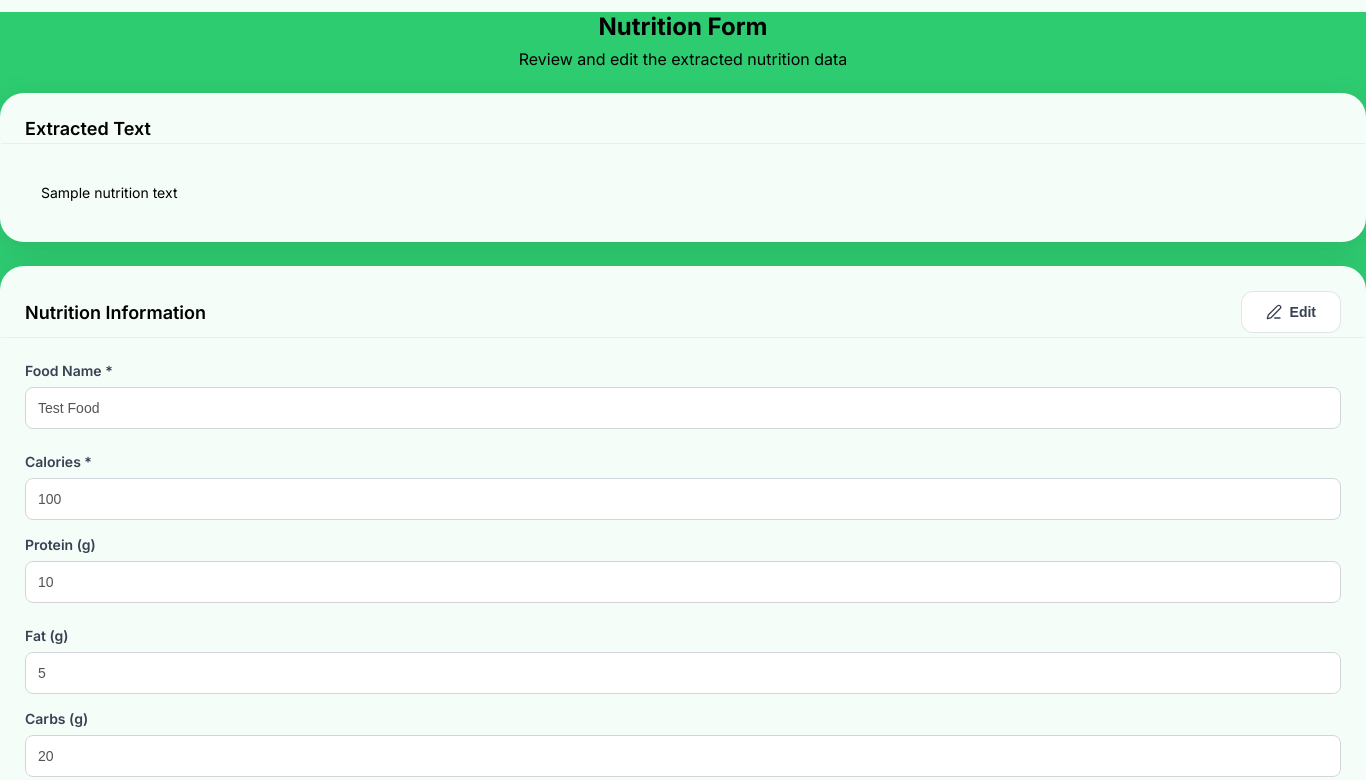
Test case: NutritionForm Component › allows editing form fields
# Enable editing
Click the button "Edit" at (1291, 312), box [1240, 291, 1341, 333]
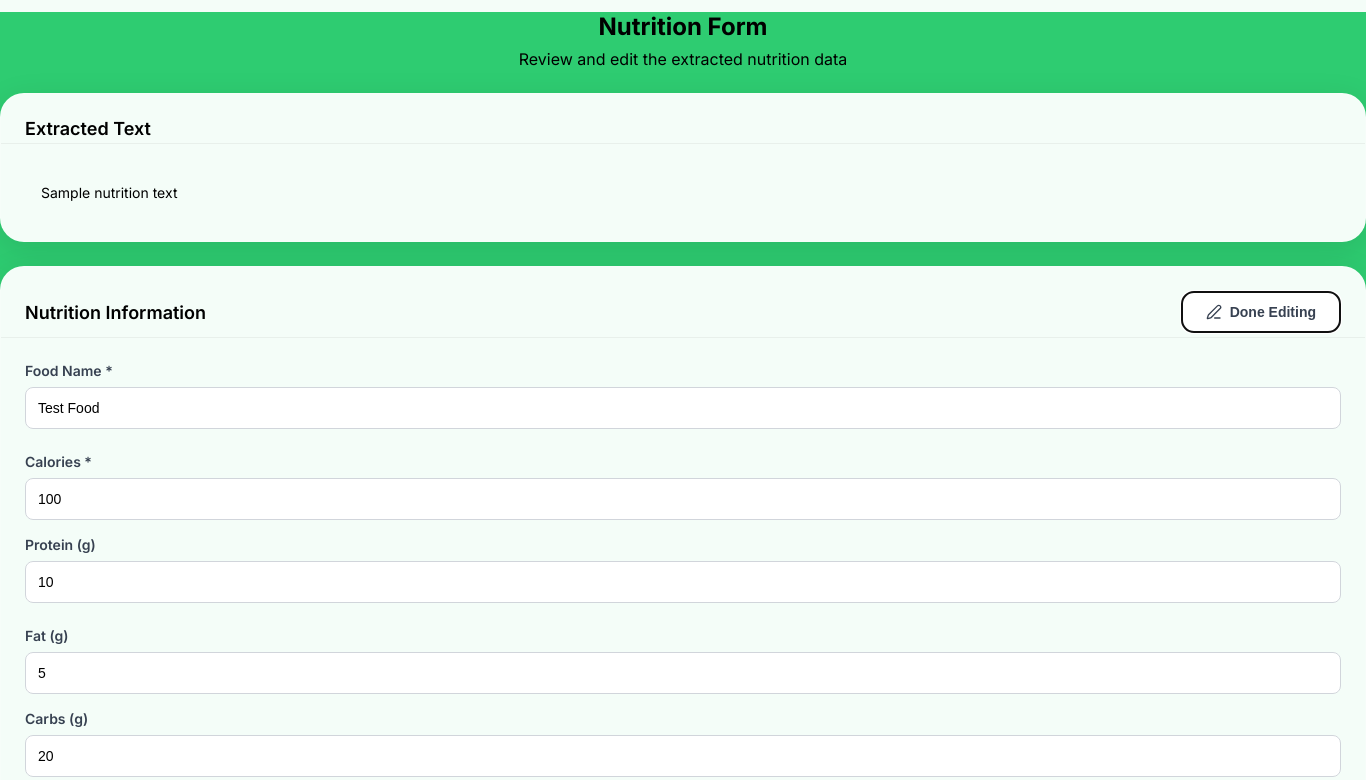
# Get the food name input and modify it
Type " Updated" into the field showing "Test Food" at (683, 408), box [25, 387, 1341, 429]
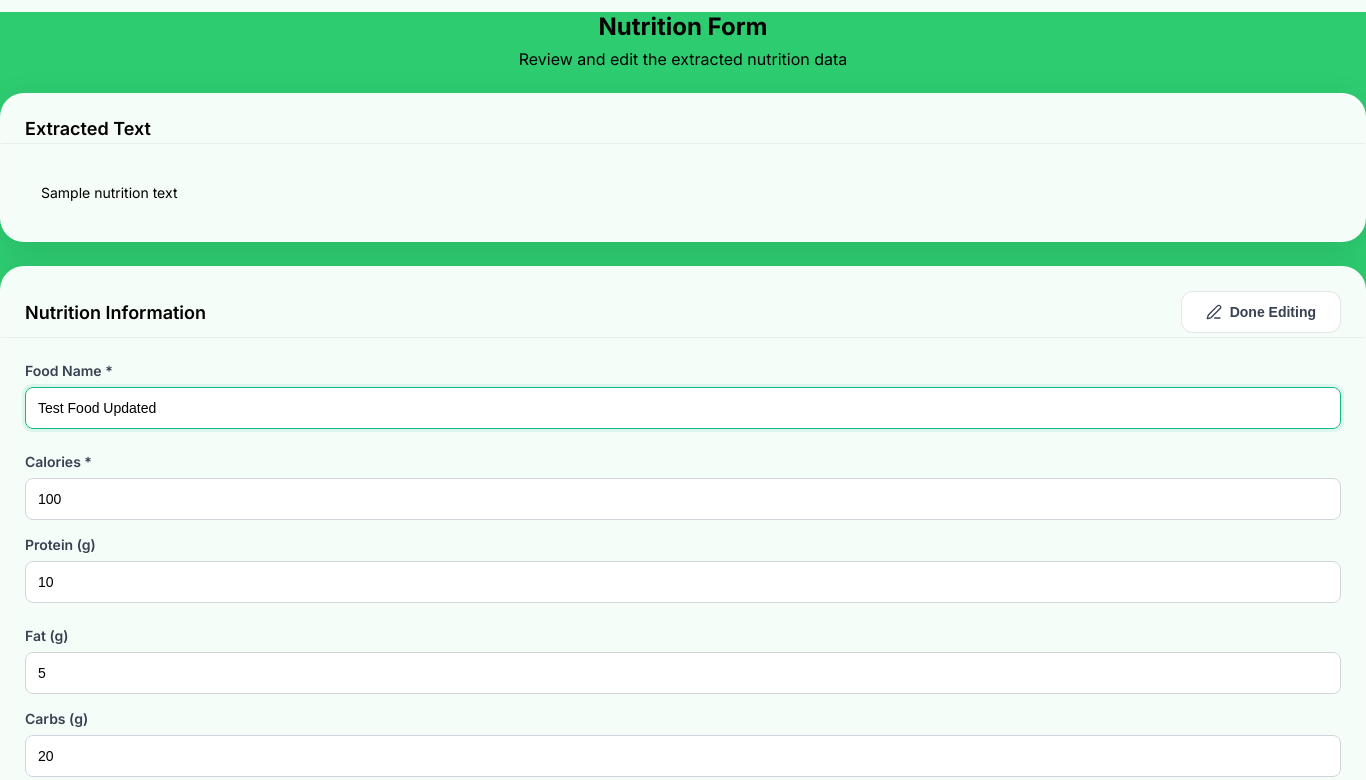
Expected: the field showing "Test Food Updated" is shown, [25, 387, 1341, 429]
